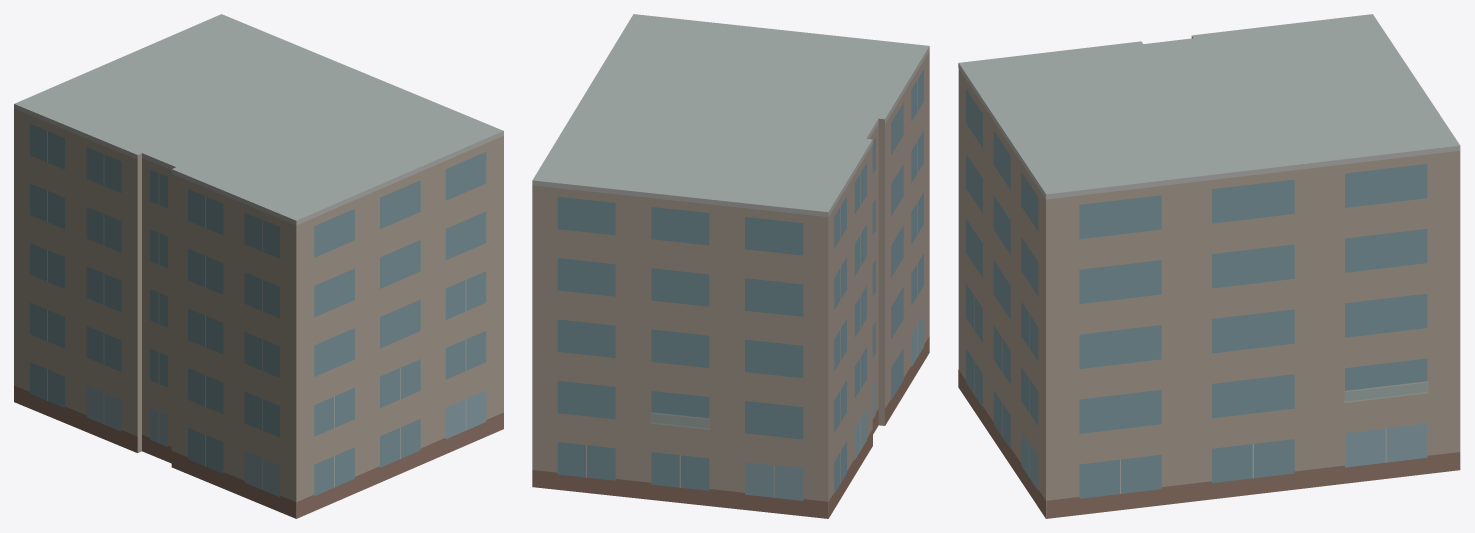
The model's file is survey-upis-33012682.glb.
3 views of the same model, side by side, from view 1: azimuth 30°, elevation 25°; view 2: azimuth 150°, elevation 25°; view 3: azimuth 270°, elevation 25° (orthographic). The views are drawn at different scales.
Parts seen in each view (by area): view 1: survey-upis-33012682.tmp; view 2: survey-upis-33012682.tmp; view 3: survey-upis-33012682.tmp.
Part boxes in pixels (bbox=[...]): survey-upis-33012682.tmp: bbox=[14, 14, 503, 518]; survey-upis-33012682.tmp: bbox=[532, 14, 929, 518]; survey-upis-33012682.tmp: bbox=[958, 14, 1460, 518].
Size of the model in its own units: 18.37 by 15.4 by 21.6.
